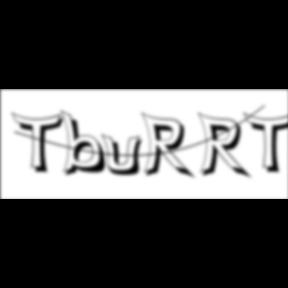R: (198, 112, 256, 182), (142, 112, 198, 182)
T: (11, 112, 69, 176)
b: (60, 109, 114, 179)
u: (101, 132, 149, 178)
